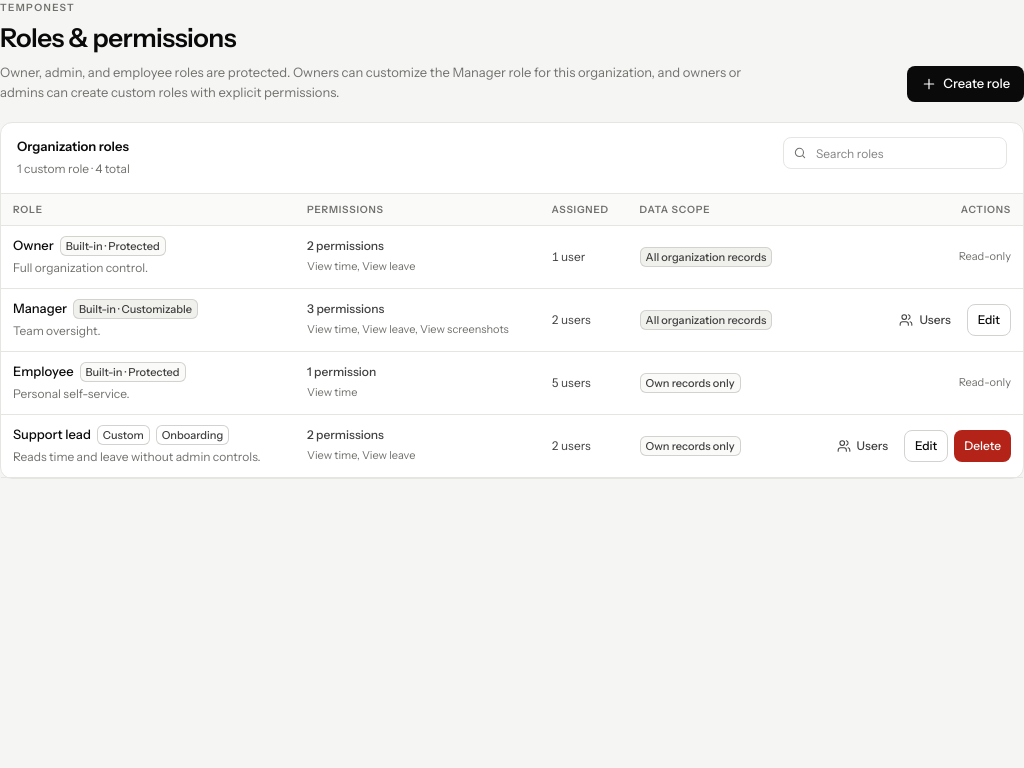
Test: RolesView › validates the role form and never offers protected permissions
Expected: the table is shown, [1,194,1023,478]
Click the button "Create role" at (966, 84), box [907,66,1023,102]
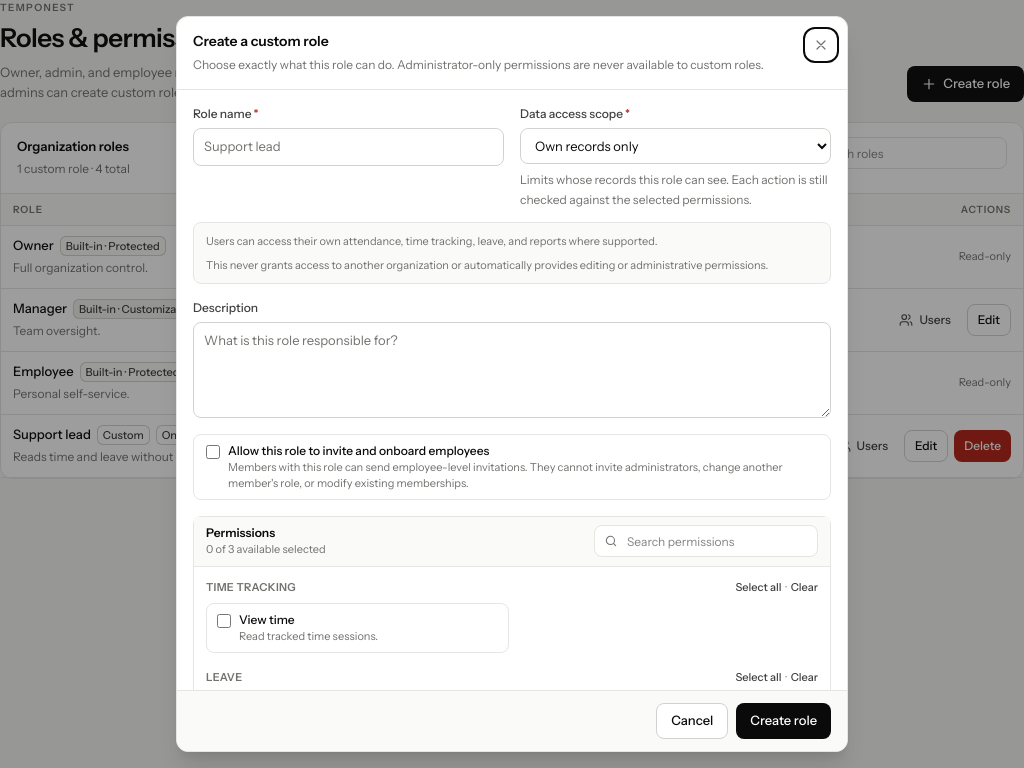
Click the button "Create role" at (784, 721), box [736,703,831,739]
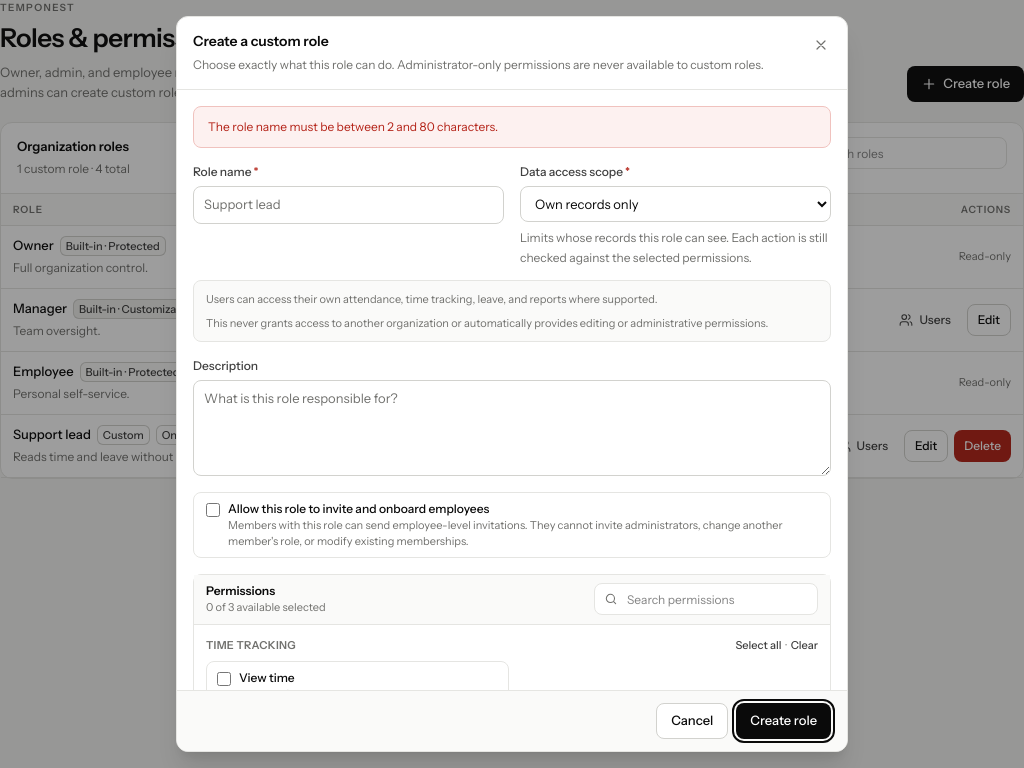
Expected: the text "The role name must be between 2 and 80 characters." is shown, [208,119,498,134]
Type "Shift lead" into the field labelled "Role name*" at (348, 205), box [193,186,504,224]
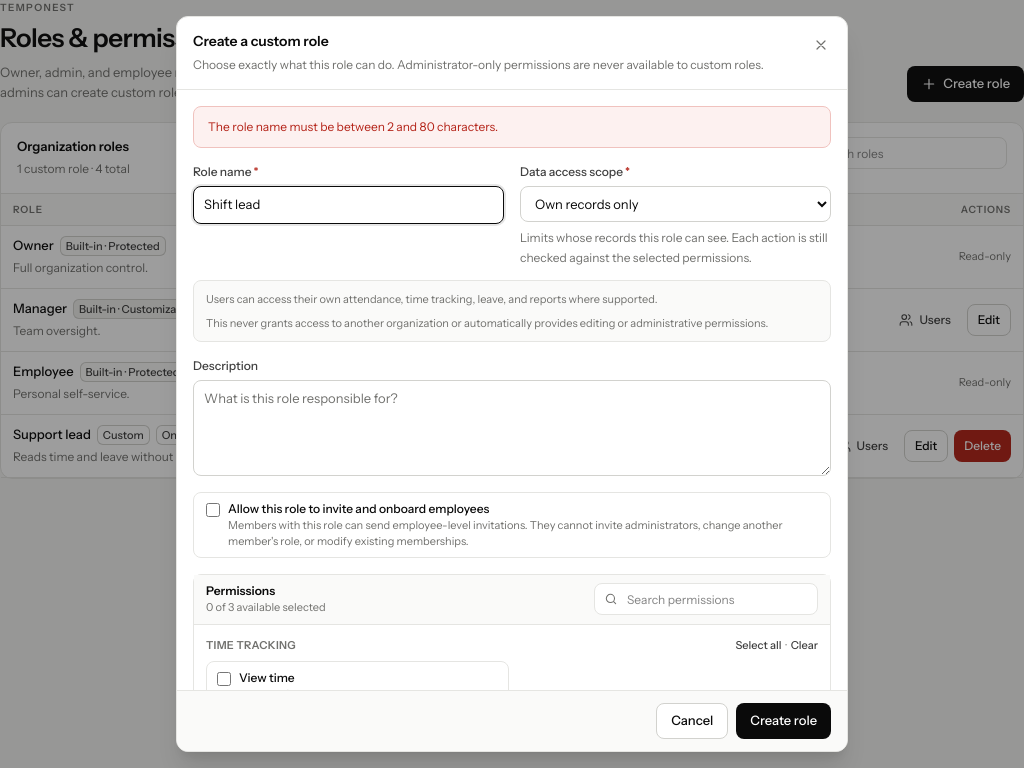
Click the button "Create role" at (784, 721), box [736,703,831,739]
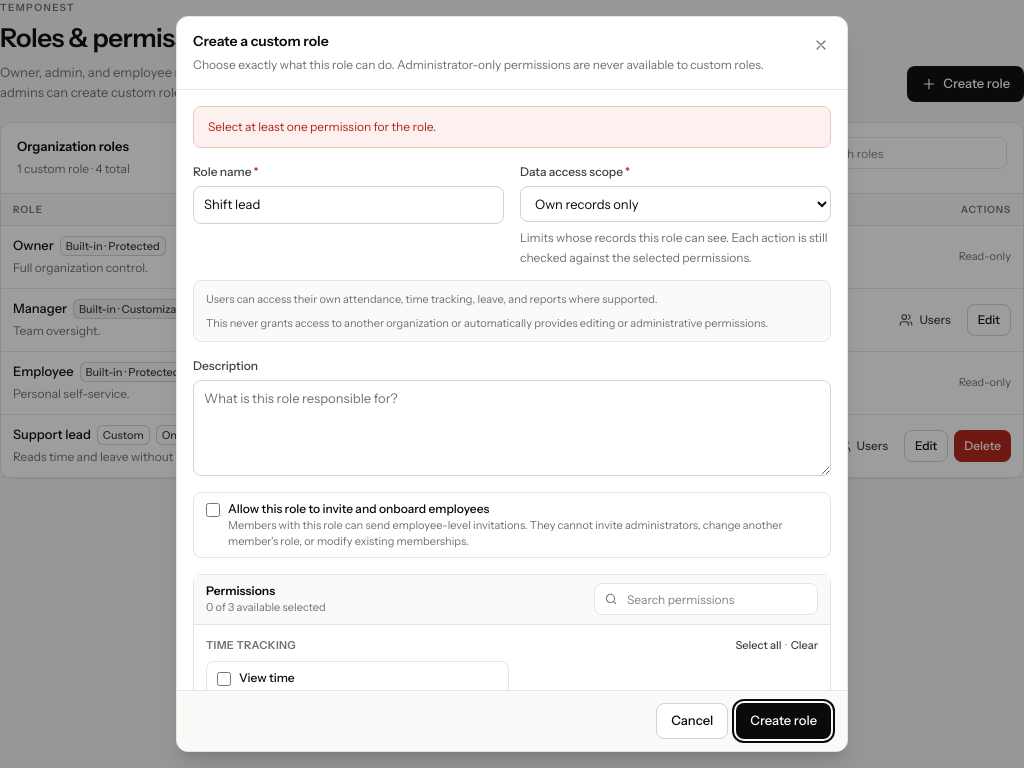
Expected: the checkbox labelled "View time Read tracked time sessions." is enabled, [217,672,231,686]
Expected: the text "Select at least one permission for the role." is shown, [208,119,436,134]
